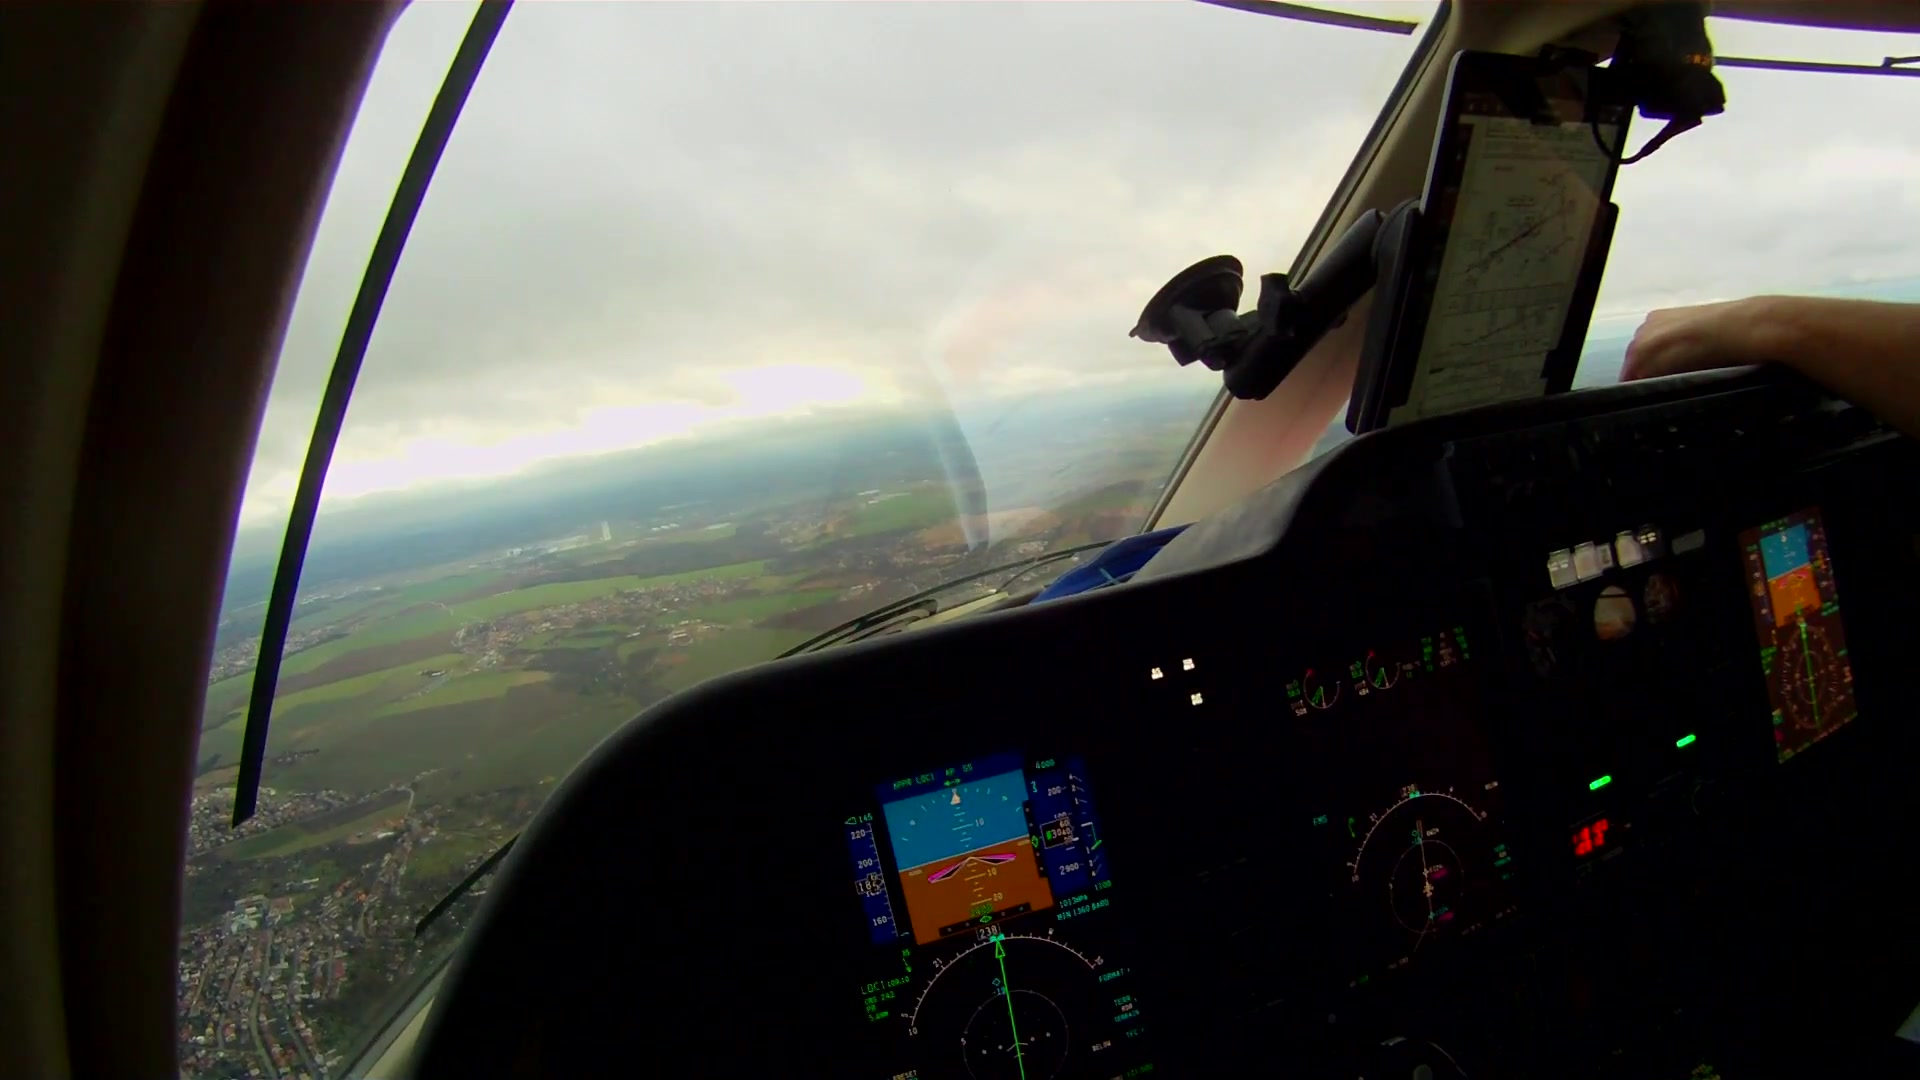runway: (597, 518, 613, 545)
